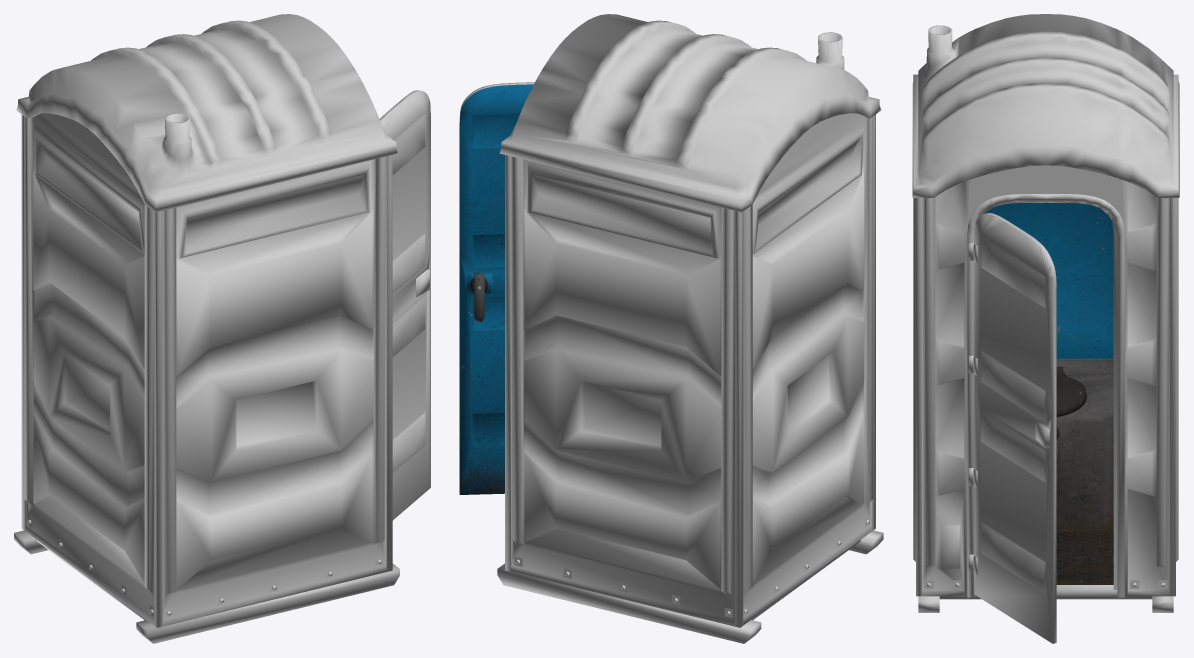
The model's file is PortaPotty NEW.fbx.
3 renders of one model, left to right at view 1: azimuth 30°, elevation 25°; view 2: azimuth 150°, elevation 25°; view 3: azimuth 270°, elevation 25°, orthographic. The views are drawn at different scales.
Parts seen in each view (by area): view 1: Portapotty, Portapottydoor; view 2: Portapotty, Portapottydoor; view 3: Portapotty, Portapottydoor, Portapotty.001.
Part boxes in pixels (left/top/right/bottom): Portapotty: left=14, top=14, right=399, bottom=643; Portapottydoor: left=379, top=90, right=430, bottom=520; Portapotty: left=497, top=14, right=883, bottom=643; Portapottydoor: left=459, top=82, right=534, bottom=494; Portapotty: left=912, top=14, right=1179, bottom=612; Portapottydoor: left=973, top=213, right=1059, bottom=643; Portapotty.001: left=1056, top=366, right=1086, bottom=416.
Bounding box in the file's own units: 195 × 273 × 133.
